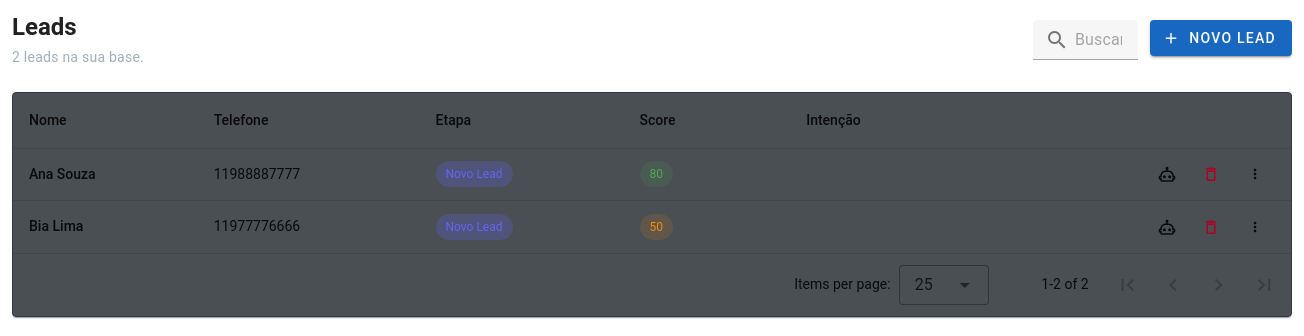
Test: LeadsView › filtra os leads pelo campo de busca
Type "ana" into the field with placeholder "Buscar..." at x=1103, y=40, box [1069,20,1138,60]
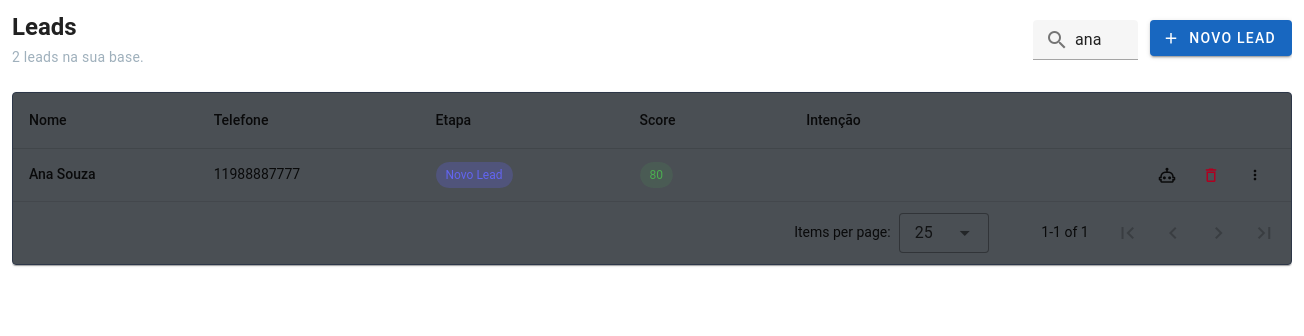
Expected: the text "Ana Souza" is shown, [29,166,96,182]
Result: the text "Bia Lima" is gone
